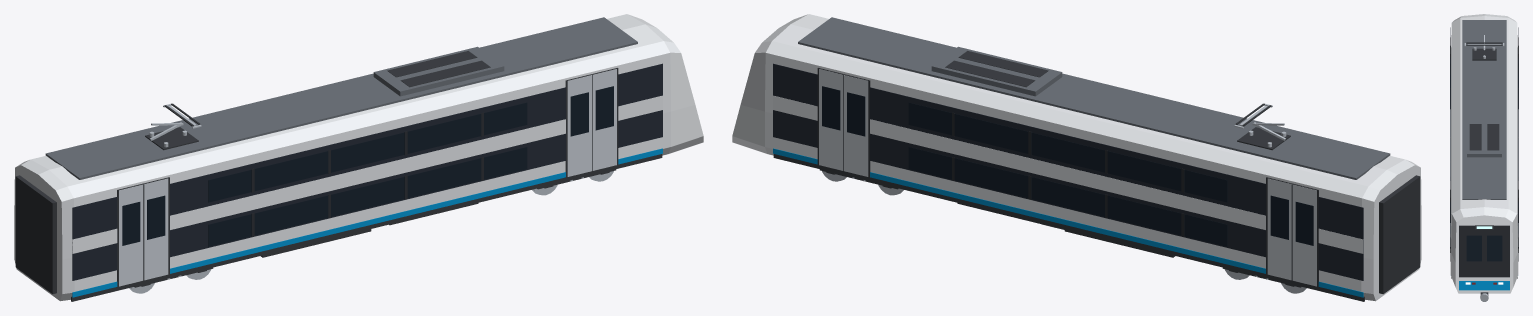
File: rer_d_z20500_cab.glb
3 renders of one model, left to right at view 1: azimuth 30°, elevation 25°; view 2: azimuth 150°, elevation 25°; view 3: azimuth 270°, elevation 25°, orthographic. The views are drawn at different scales.
Parts seen in each view (by area): view 1: rer_d_z20500_cab; view 2: rer_d_z20500_cab; view 3: rer_d_z20500_cab.
Part boxes in pixels (<box>): rer_d_z20500_cab: <box>14,14,703,301</box>; rer_d_z20500_cab: <box>732,14,1421,301</box>; rer_d_z20500_cab: <box>1450,14,1518,301</box>.
Bounding box in the file's own units: 21.57 × 4.88 × 2.97.
Materials: 3 (3 with a texture image).
